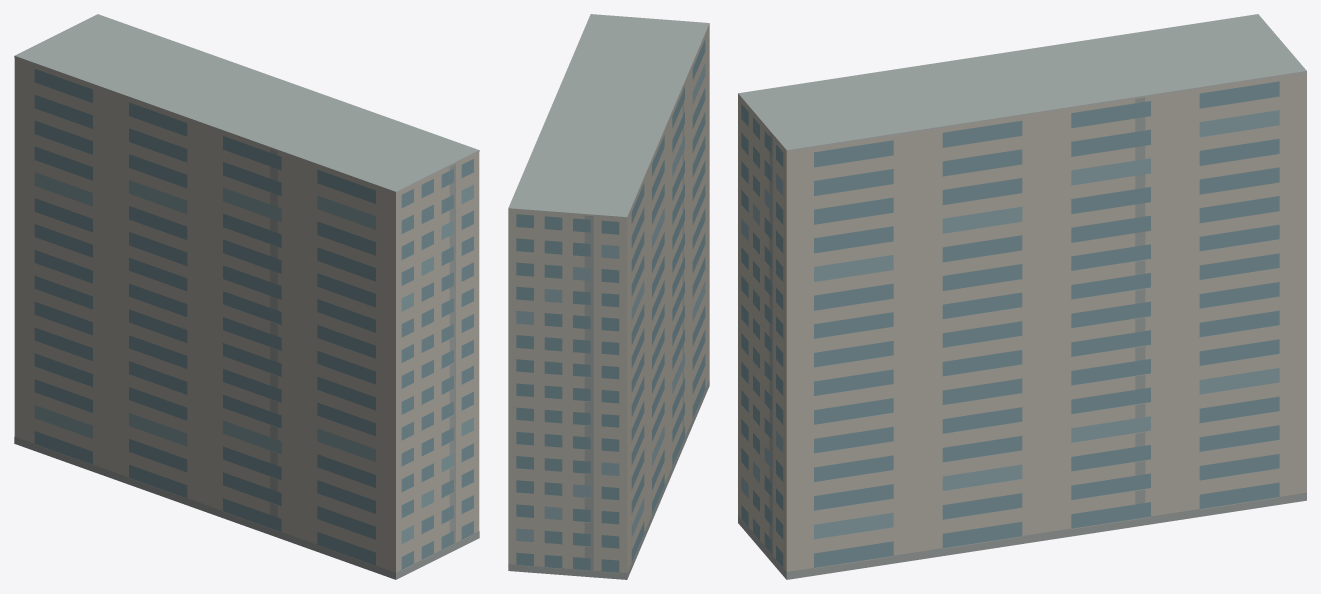
File: residential-c143d272-c071-41a9-86c8-c0f7ea5b5b30.glb
3 views of the same model, side by side, from view 1: azimuth 30°, elevation 25°; view 2: azimuth 150°, elevation 25°; view 3: azimuth 270°, elevation 25° (orthographic). The views are drawn at different scales.
Parts seen in each view (by area): view 1: residential-c143d272-c071-41a9-86c8-c0f7ea5b5b30.tmp; view 2: residential-c143d272-c071-41a9-86c8-c0f7ea5b5b30.tmp; view 3: residential-c143d272-c071-41a9-86c8-c0f7ea5b5b30.tmp.
Part boxes in pixels (x1,y1,x2,y2): residential-c143d272-c071-41a9-86c8-c0f7ea5b5b30.tmp: (14,14,479,579); residential-c143d272-c071-41a9-86c8-c0f7ea5b5b30.tmp: (508,14,709,579); residential-c143d272-c071-41a9-86c8-c0f7ea5b5b30.tmp: (738,14,1306,579).
Bounding box in the file's own units: 36.03 × 53 × 63.59.
